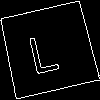L: (23, 24, 61, 75)
